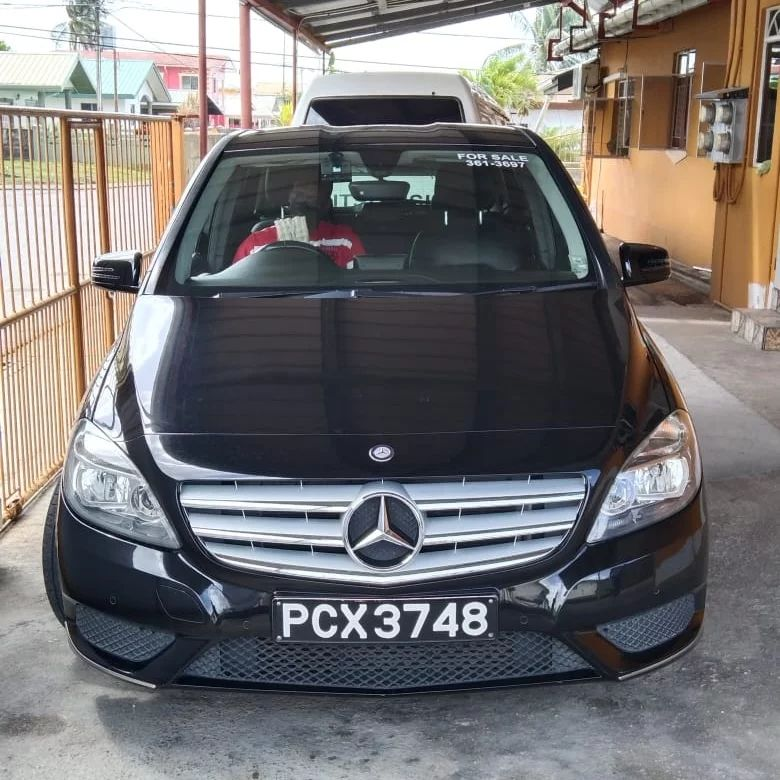License-Plate: (272, 600, 496, 641)
